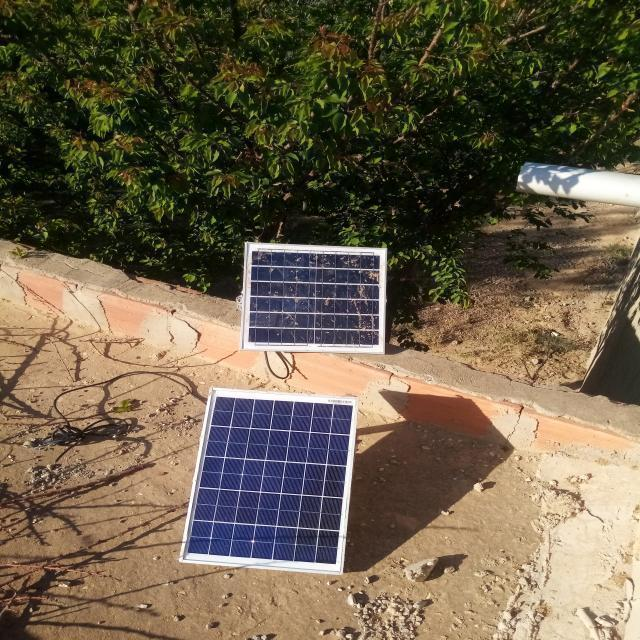Anomaly Solar Panel: (241, 242, 387, 353)
Normal Solar Panel: (179, 388, 358, 574)
Surface Contaminant: (249, 250, 380, 344)
